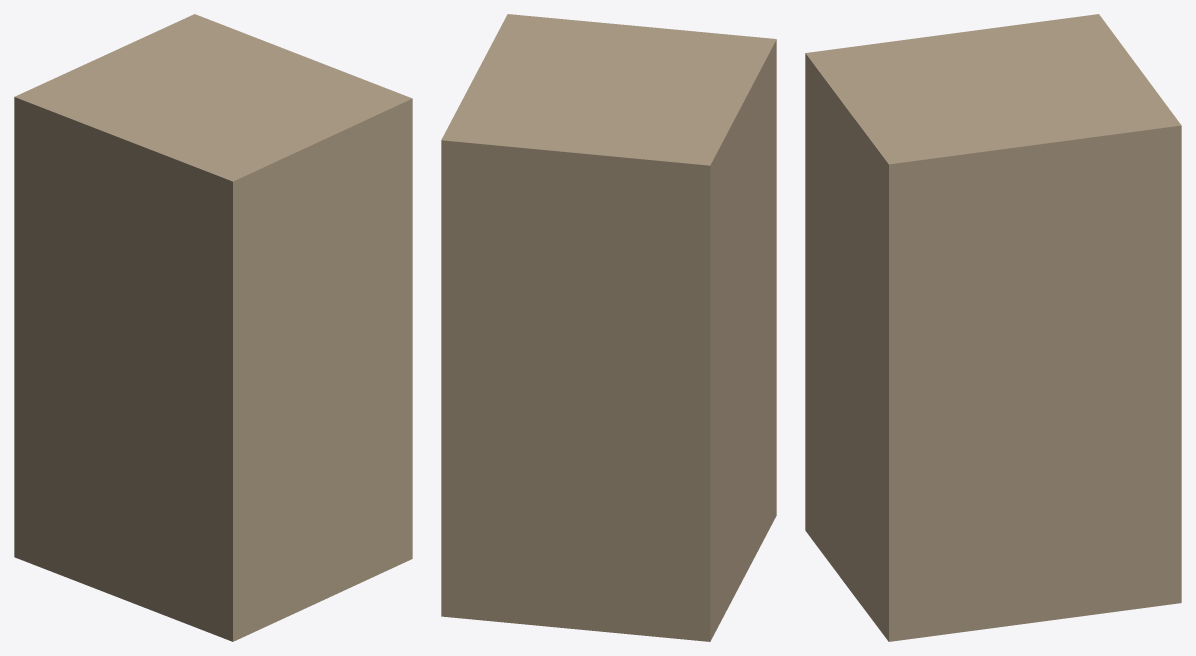
The model's file is bld_107914653.dae.
3 renders of one model, left to right at view 1: azimuth 30°, elevation 25°; view 2: azimuth 150°, elevation 25°; view 3: azimuth 270°, elevation 25°, orthographic. The views are drawn at different scales.
Parts seen in each view (by area): view 1: Mill Lane Substation; view 2: Mill Lane Substation; view 3: Mill Lane Substation.
Part boxes in pixels (left/top/right/bottom): Mill Lane Substation: left=14, top=14, right=412, bottom=641; Mill Lane Substation: left=441, top=14, right=776, bottom=641; Mill Lane Substation: left=805, top=14, right=1181, bottom=641.
Bounding box in the file's own units: 5.4 × 5.71 × 8.
